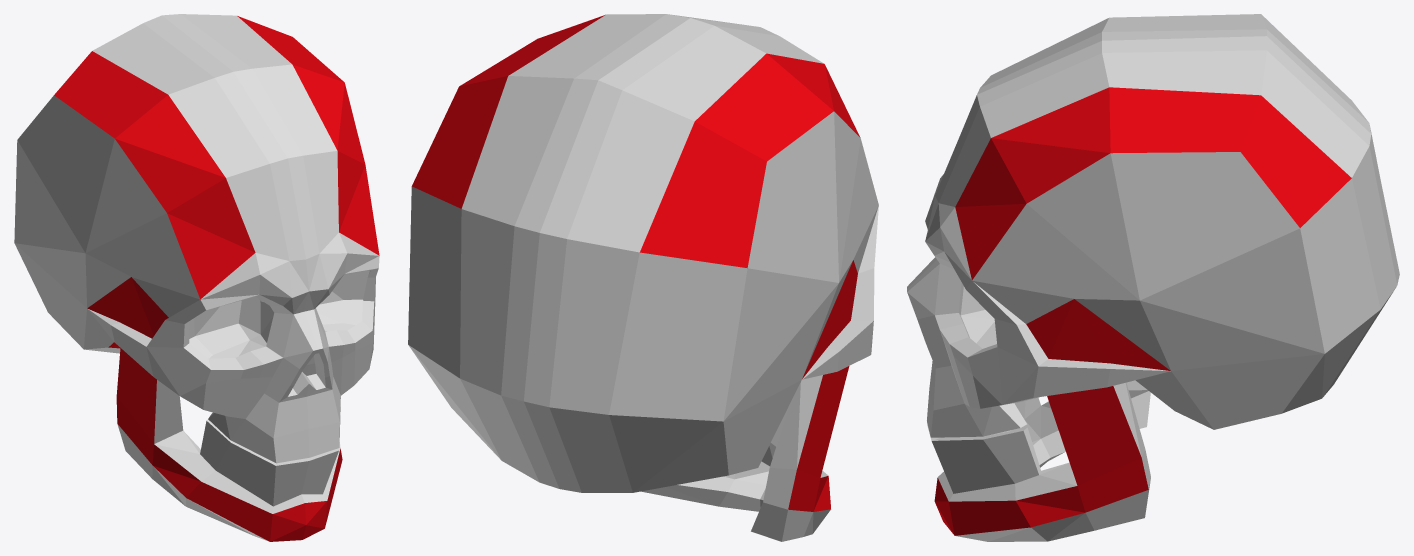
Rendered from had.gltf.
3 views of the same model, side by side, from view 1: azimuth 30°, elevation 25°; view 2: azimuth 150°, elevation 25°; view 3: azimuth 270°, elevation 25° (orthographic). The views are drawn at different scales.
Visible parts, largest first — view 1: Plane_1; view 2: Plane_1; view 3: Plane_1.
Part boxes in pixels (<box>): Plane_1: <box>14,14,379,541</box>; Plane_1: <box>408,14,878,541</box>; Plane_1: <box>907,14,1399,541</box>.
Bounding box in the file's own units: 1.66 × 2.58 × 2.34.
